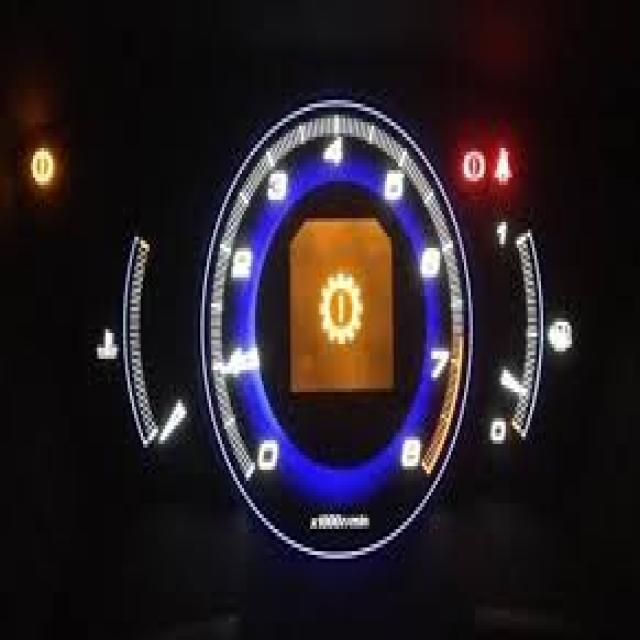kontrolka: (317, 262, 367, 355), (316, 268, 370, 349)
